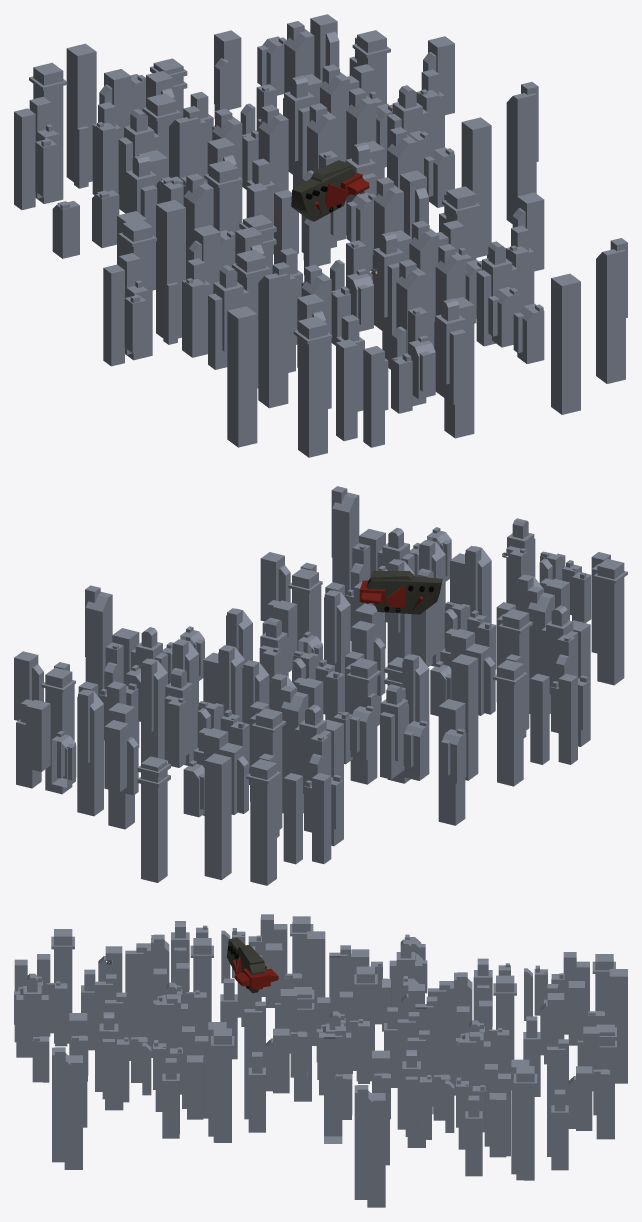
The model's file is storyboard.fbx.
The picture shows the model from 3 angles, top to bottom: view 1: azimuth 30°, elevation 25°; view 2: azimuth 150°, elevation 25°; view 3: azimuth 270°, elevation 25°; orthographic projection. The views are drawn at different scales.
Parts seen in each view (by area): view 1: City, Nave; view 2: City, Nave; view 3: City, Nave.
Part boxes in pixels (x1=…): City: x1=14, y1=14, x2=627, y2=457; Nave: x1=291, y1=160, x2=369, y2=221; City: x1=14, y1=486, x2=627, y2=885; Nave: x1=359, y1=571, x2=442, y2=614; City: x1=14, y1=914, x2=627, y2=1207; Nave: x1=226, y1=937, x2=278, y2=993.
Bounding box in the file's own units: 50012 × 19297 × 65966.
